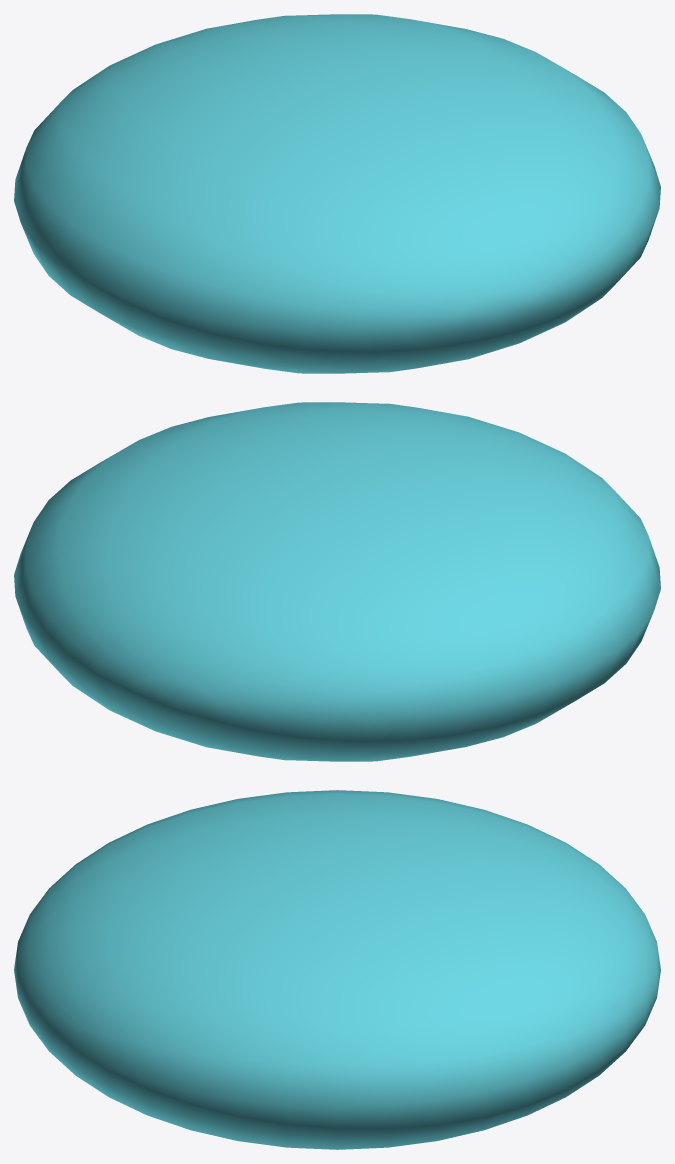
Rendered from Tile12.fbx.
3 renders of one model, top to bottom at view 1: azimuth 30°, elevation 25°; view 2: azimuth 150°, elevation 25°; view 3: azimuth 270°, elevation 25°, orthographic.
Visible parts, largest first — view 1: m12; view 2: m12; view 3: m12.
Part boxes in pixels (bbox=[...]): m12: bbox=[14, 14, 660, 373]; m12: bbox=[14, 402, 660, 761]; m12: bbox=[14, 790, 660, 1149].
Size of the model in its own units: 9.43 by 3.79 by 9.43.
